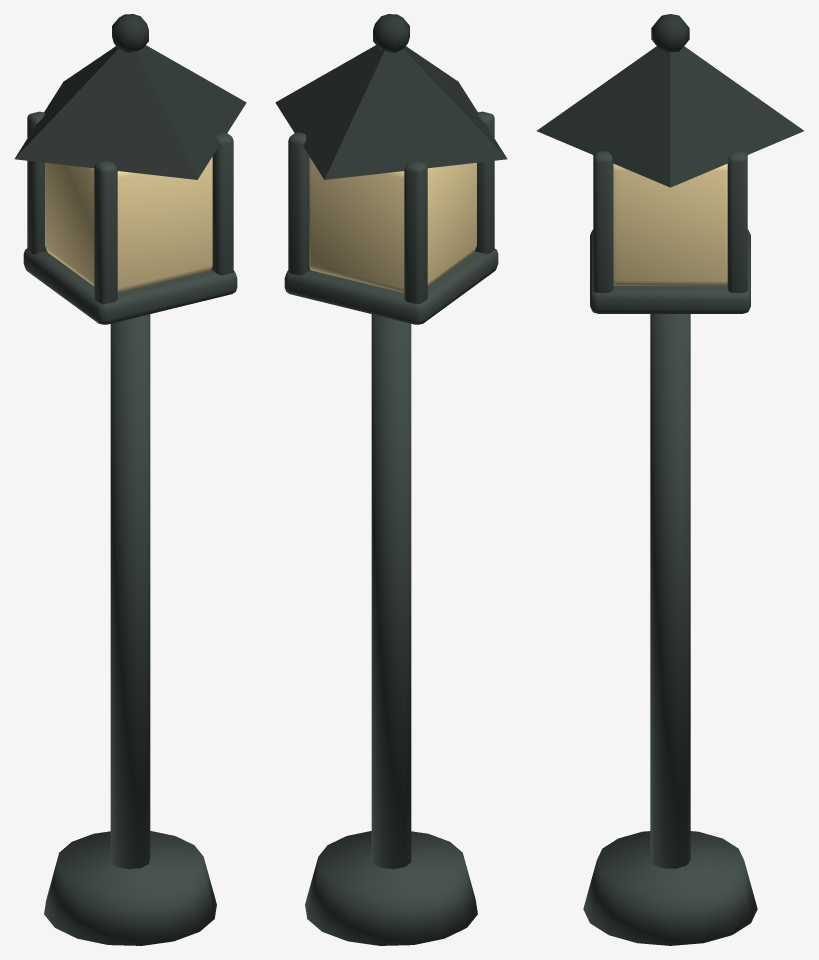
Rendered from garden-lamp.glb.
3 renders of one model, left to right at view 1: azimuth 30°, elevation 25°; view 2: azimuth 150°, elevation 25°; view 3: azimuth 270°, elevation 25°, orthographic.
Parts seen in each view (by area): view 1: lamp; view 2: lamp; view 3: lamp.
Boxes of the visible parts, left/top/right/bottom form: lamp: left=14, top=14, right=246, bottom=945; lamp: left=275, top=14, right=507, bottom=945; lamp: left=537, top=14, right=803, bottom=945.
Bounding box in the file's own units: 0.4 × 1.47 × 0.4.
